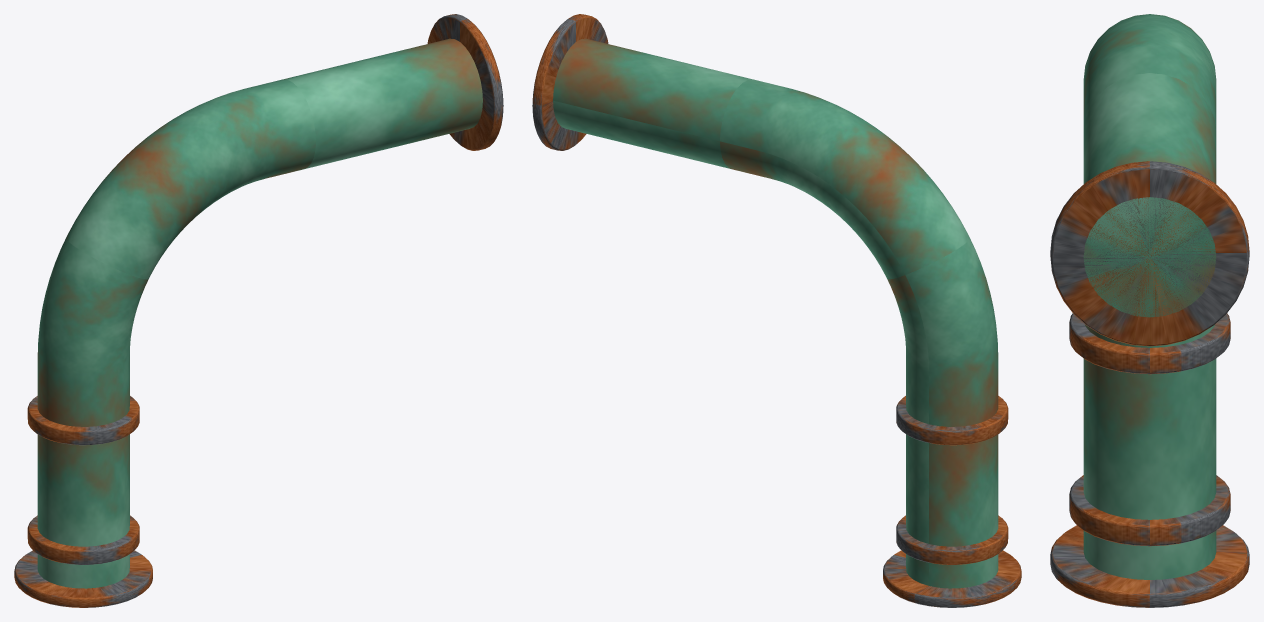
File: pipe_bend.gltf
The picture shows the model from 3 angles, left to right: view 1: azimuth 30°, elevation 25°; view 2: azimuth 150°, elevation 25°; view 3: azimuth 270°, elevation 25°; orthographic projection. The views are drawn at different scales.
Visible parts, largest first — view 1: pipe_bend; view 2: pipe_bend; view 3: pipe_bend.
Part boxes in pixels (x1,y1,x2,y2): pipe_bend: [14, 14, 503, 607]; pipe_bend: [532, 14, 1021, 607]; pipe_bend: [1050, 14, 1249, 607].
Bounding box in the file's own units: 3.12 × 3.12 × 0.84.
Materials: 2 (2 with a texture image).
